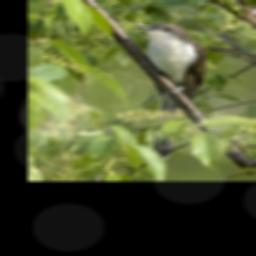Cuckoo: (130, 18, 207, 143)
